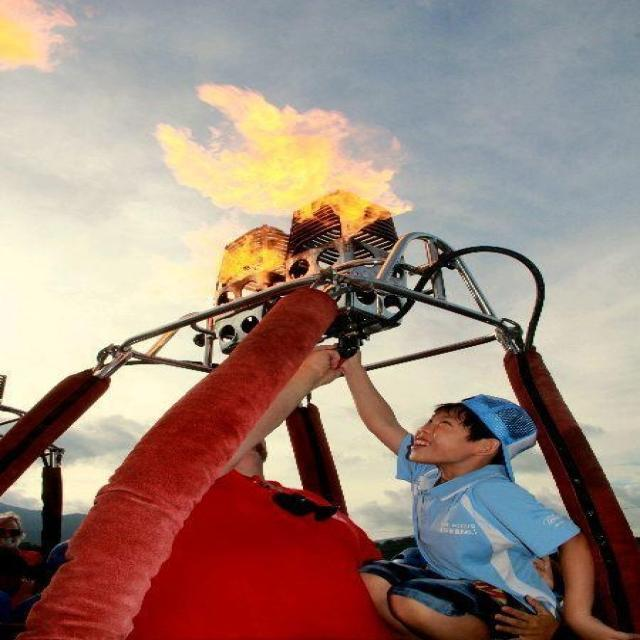Fire: (148, 81, 414, 286), (1, 0, 78, 74)
